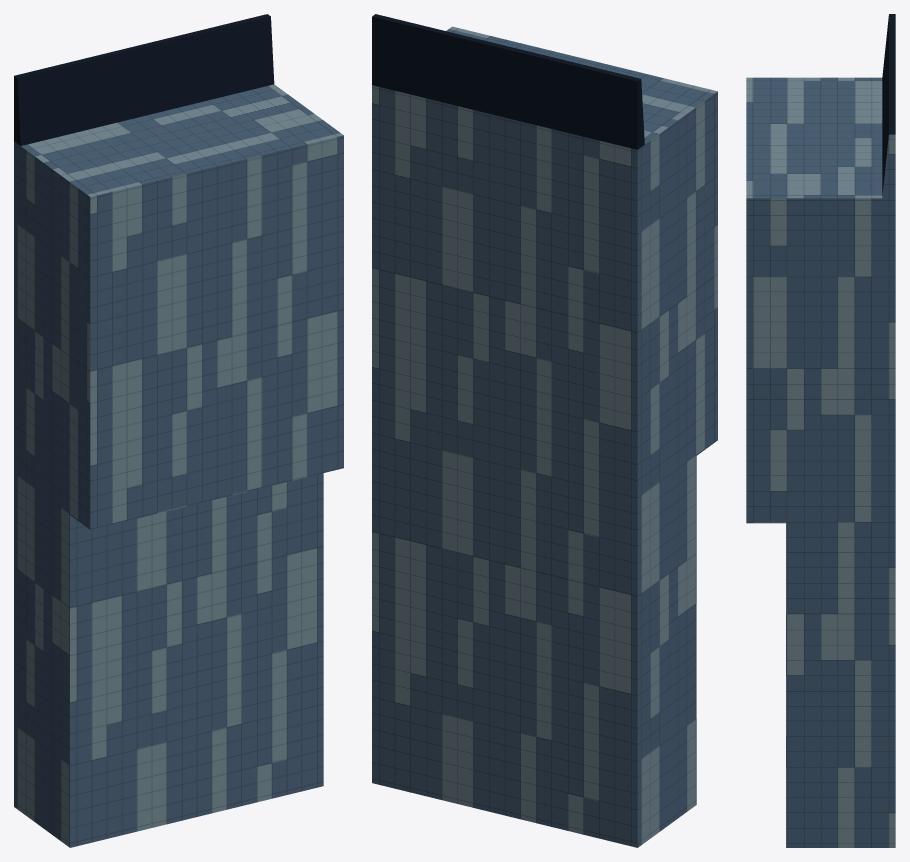
The model's file is Beetham.FBX.
3 views of the same model, side by side, from view 1: azimuth 30°, elevation 25°; view 2: azimuth 150°, elevation 25°; view 3: azimuth 270°, elevation 25° (orthographic). The views are drawn at different scales.
Visible parts, largest first — view 1: Beetham; view 2: Beetham; view 3: Beetham.
Part boxes in pixels (box(x1,y1,x2,y2)): Beetham: box(14, 14, 343, 847); Beetham: box(372, 14, 717, 847); Beetham: box(746, 14, 895, 847).
Size of the model in its own units: 848 by 2338 by 443.
